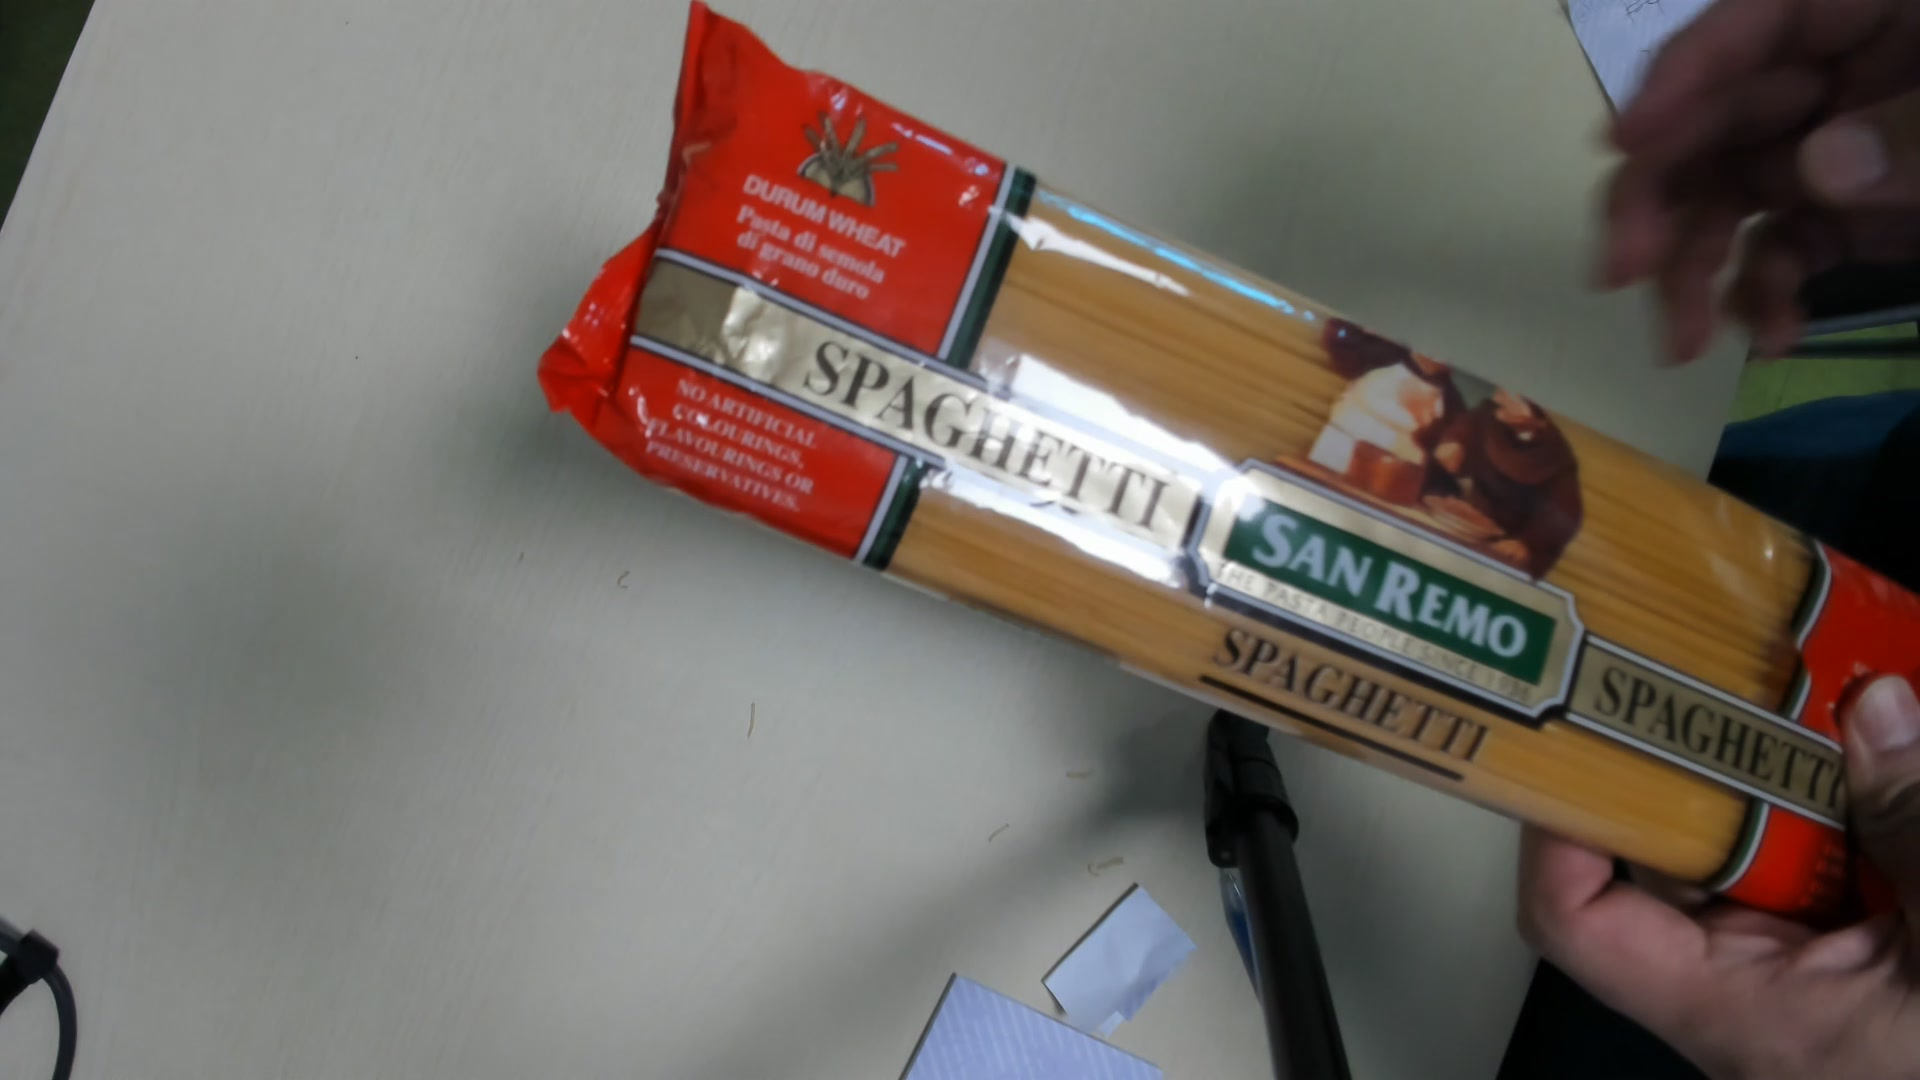Pasta_500-599g_Halal_NonHealthy: (585, 13, 1920, 923)
